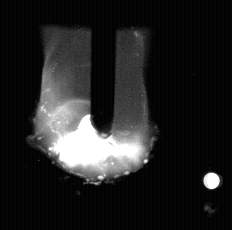arame: (91, 0, 116, 139)
poca: (34, 0, 155, 230)
